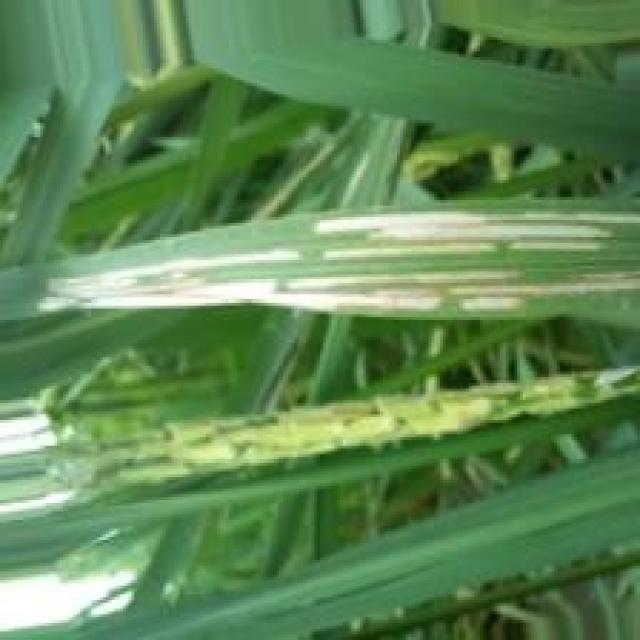Rice_Hispa: (43, 246, 640, 313), (309, 208, 640, 257)
